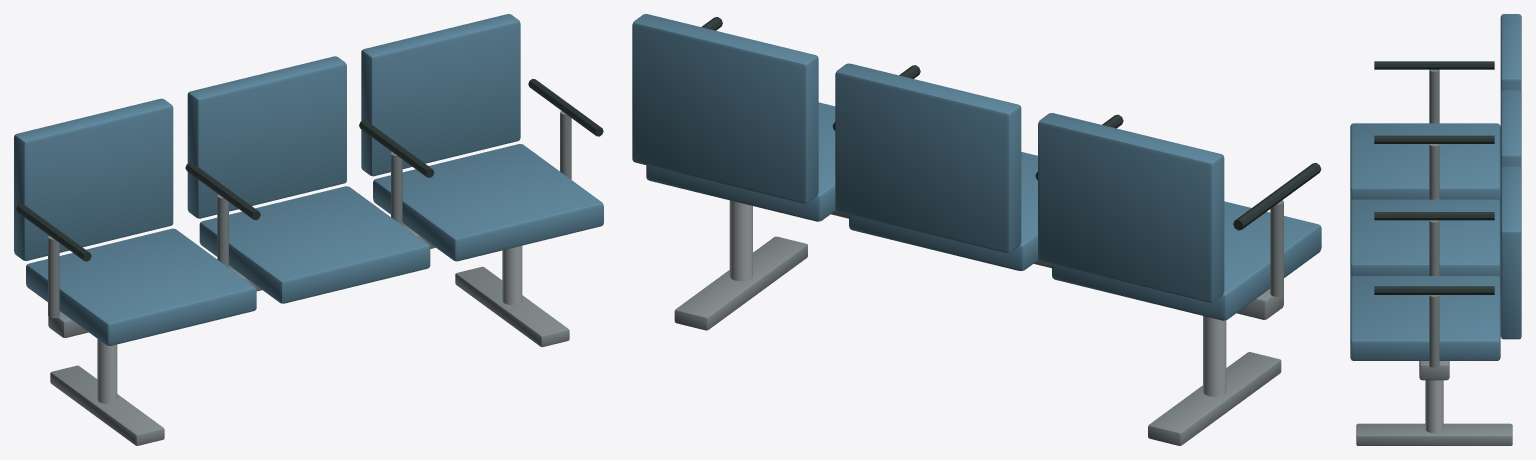
Rendered from waiting-chairs.glb.
The picture shows the model from 3 angles, left to right: view 1: azimuth 30°, elevation 25°; view 2: azimuth 150°, elevation 25°; view 3: azimuth 270°, elevation 25°; orthographic projection. The views are drawn at different scales.
Parts seen in each view (by area): view 1: waiting-chairs; view 2: waiting-chairs; view 3: waiting-chairs.
Part boxes in pixels (bbox=[...]): waiting-chairs: bbox=[14, 14, 603, 445]; waiting-chairs: bbox=[632, 14, 1321, 445]; waiting-chairs: bbox=[1350, 14, 1521, 445].
Size of the model in its own units: 1.8 by 0.84 by 0.57.
